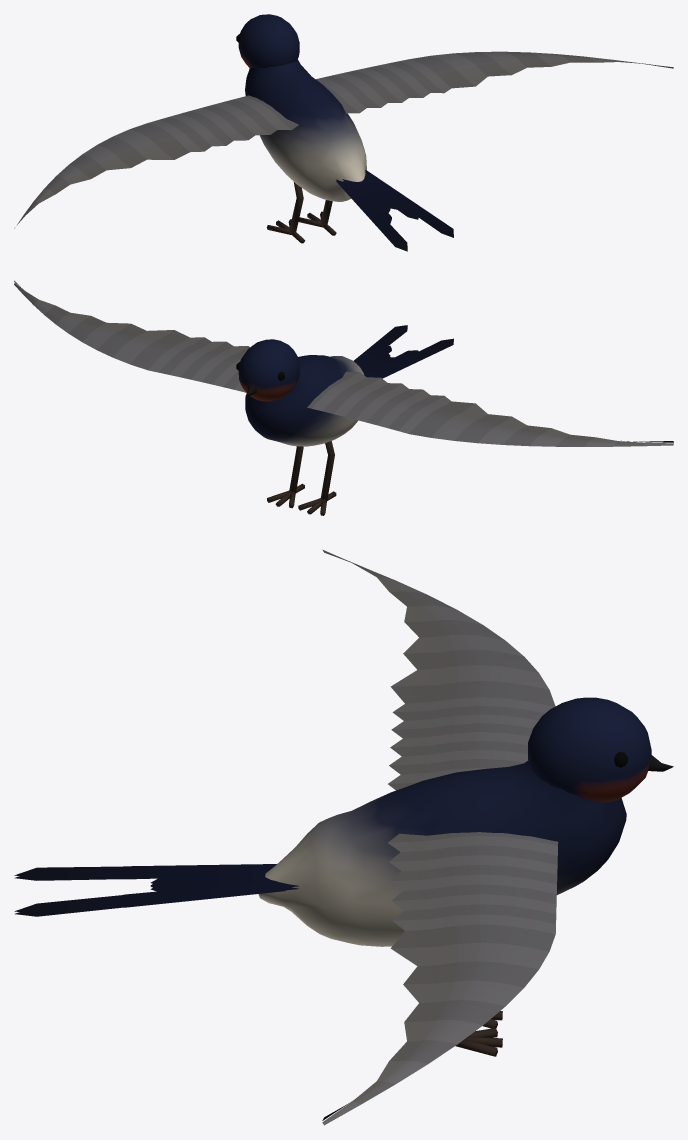
Rendered from bird_swallow.glb.
The picture shows the model from 3 angles, top to bottom: view 1: azimuth 30°, elevation 25°; view 2: azimuth 150°, elevation 25°; view 3: azimuth 270°, elevation 25°; orthographic projection. The views are drawn at different scales.
Visible parts, largest first — view 1: Body, WingL, WingR, WingL2, WingR2, Tail, Head, Legs; view 2: Body, WingL2, WingL, WingR2, WingR, Head, Tail, Legs; view 3: Body, WingR2, WingR, WingL2, Head, WingL, Tail, Legs.
Boxes of the visible parts, <box> form: Body: <box>245,59,366,201</box>; WingL: <box>148,95,298,152</box>; WingR: <box>316,59,451,113</box>; WingL2: <box>14,123,189,228</box>; WingR2: <box>409,51,673,88</box>; Tail: <box>336,169,453,251</box>; Head: <box>236,14,299,68</box>; Legs: <box>266,182,336,243</box>; Body: <box>245,355,363,446</box>; WingL2: <box>409,401,673,446</box>; WingL: <box>307,371,451,433</box>; WingR2: <box>14,280,189,370</box>; WingR: <box>148,337,249,392</box>; Head: <box>236,339,299,401</box>; Tail: <box>354,325,453,378</box>; Legs: <box>267,441,336,515</box>; Body: <box>258,761,626,946</box>; WingR2: <box>322,924,555,1125</box>; WingR: <box>388,832,558,933</box>; WingL2: <box>322,549,555,706</box>; Head: <box>528,697,673,802</box>; WingL: <box>388,697,554,790</box>; Tail: <box>14,864,298,916</box>; Legs: <box>455,1011,502,1056</box>.
Size of the model in its own units: 0.4648 by 0.1251 by 0.2263.
